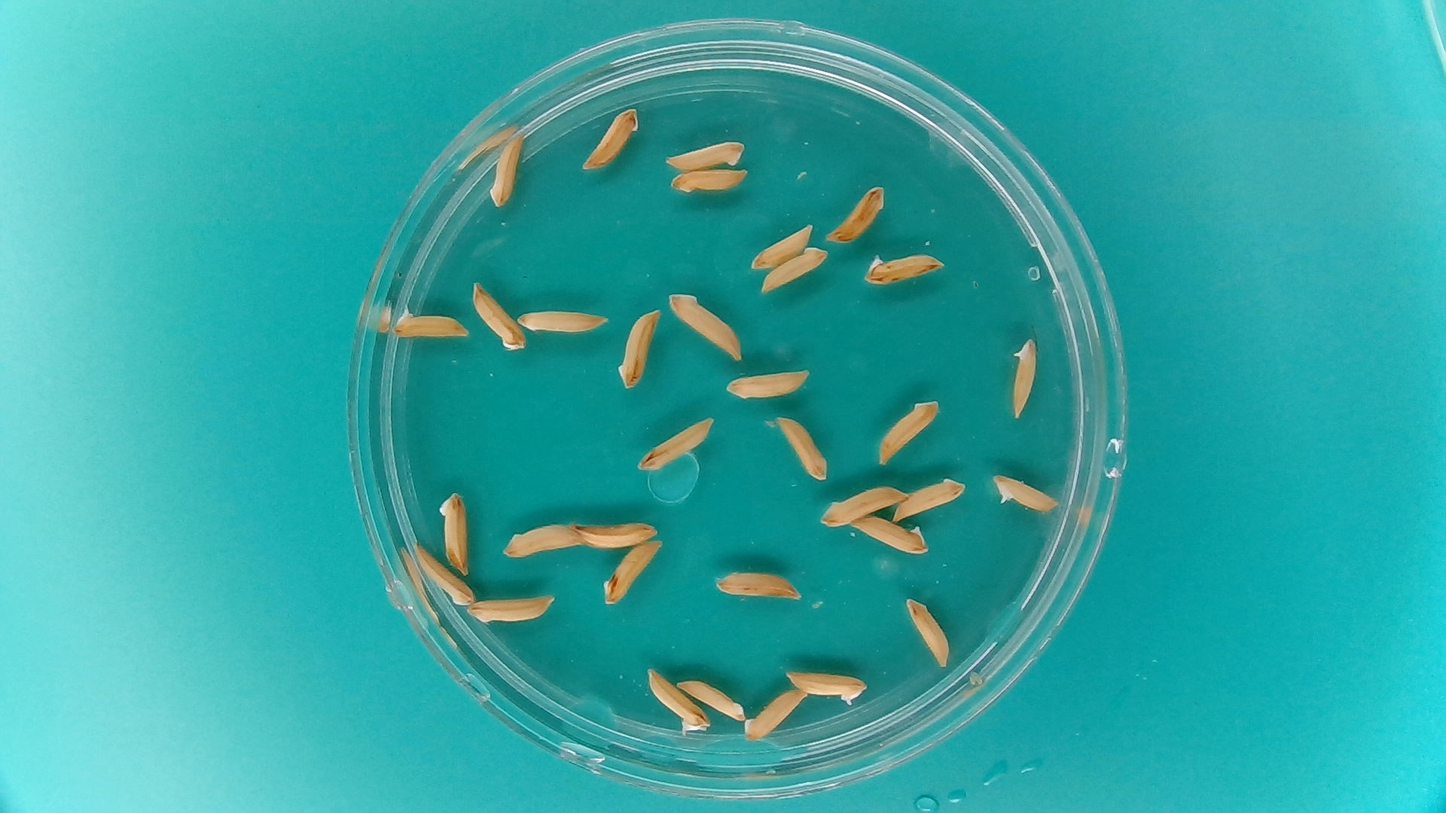no: (667, 290, 743, 364), (636, 414, 717, 473), (410, 539, 476, 607), (735, 688, 810, 747), (877, 398, 940, 466), (817, 486, 911, 531), (647, 667, 711, 732), (602, 539, 664, 606), (581, 106, 641, 172), (471, 282, 527, 351), (824, 184, 886, 245), (617, 308, 662, 391), (890, 477, 966, 526), (775, 415, 831, 481), (852, 513, 933, 558), (758, 246, 830, 295), (904, 595, 950, 671), (502, 523, 594, 561), (675, 675, 746, 722), (749, 221, 815, 271), (490, 132, 529, 209), (785, 666, 868, 702), (392, 301, 470, 339), (465, 593, 559, 624), (863, 253, 946, 288), (726, 368, 812, 401), (438, 491, 471, 577), (712, 570, 802, 601), (993, 473, 1059, 512), (665, 140, 747, 171), (569, 522, 660, 549), (1011, 337, 1038, 420), (517, 310, 611, 332), (671, 169, 752, 193)
